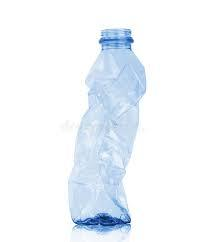plastic: (65, 29, 143, 232)
